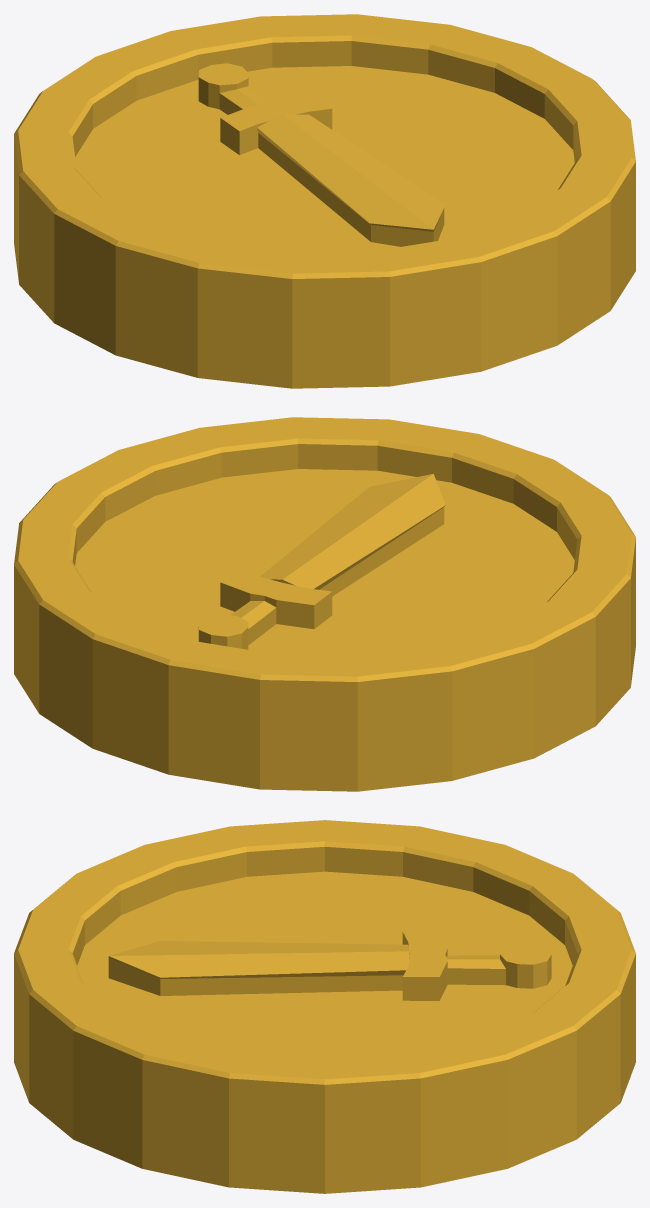
File: coin.fbx
3 views of the same model, one above another, from view 1: azimuth 30°, elevation 25°; view 2: azimuth 150°, elevation 25°; view 3: azimuth 270°, elevation 25° (orthographic).
Parts seen in each view (by area): view 1: Cylinder; view 2: Cylinder; view 3: Cylinder.
Part boxes in pixels (x1,y1,x2,y2): Cylinder: [14, 14, 635, 388]; Cylinder: [14, 417, 635, 791]; Cylinder: [14, 820, 635, 1193].
Size of the model in its own units: 200 by 40 by 200.
